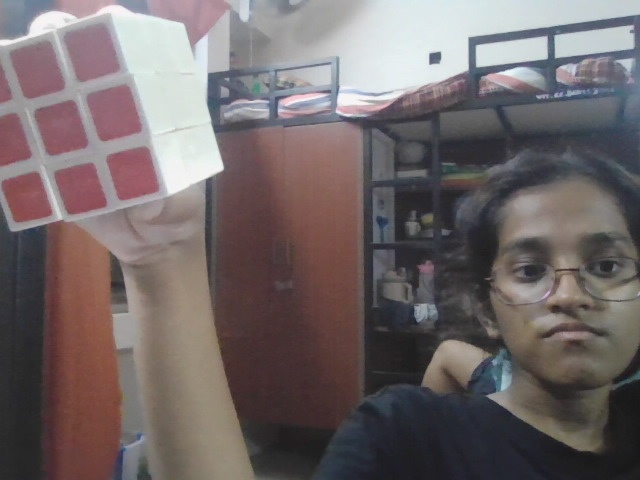rubiks_cube: (98, 0, 223, 196)
